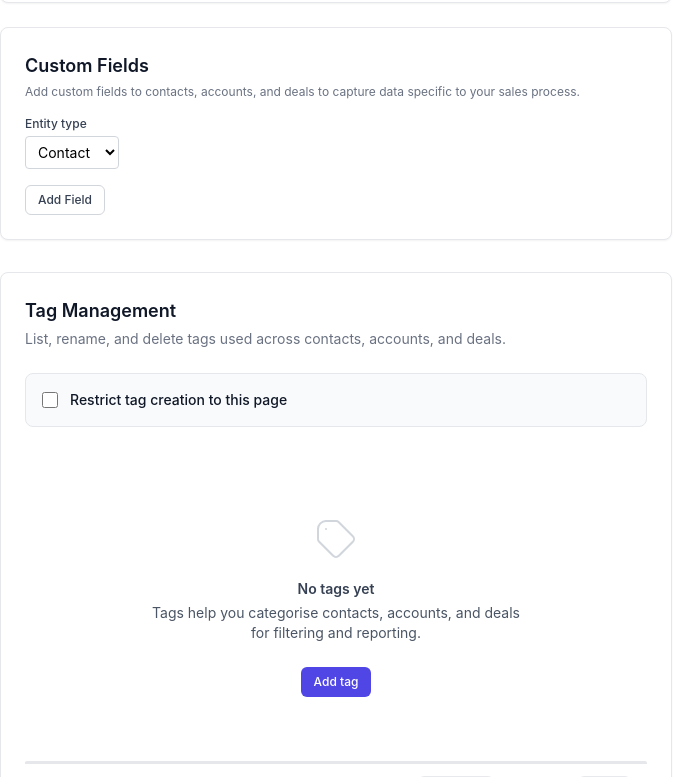
Test case: PipelinesAndFieldsSettings › shows tags restrict-creation success message after toggle
(page scrolled)
Click the switch with test id "tags-restrict-toggle" at (50, 400), box [42,392,58,408]
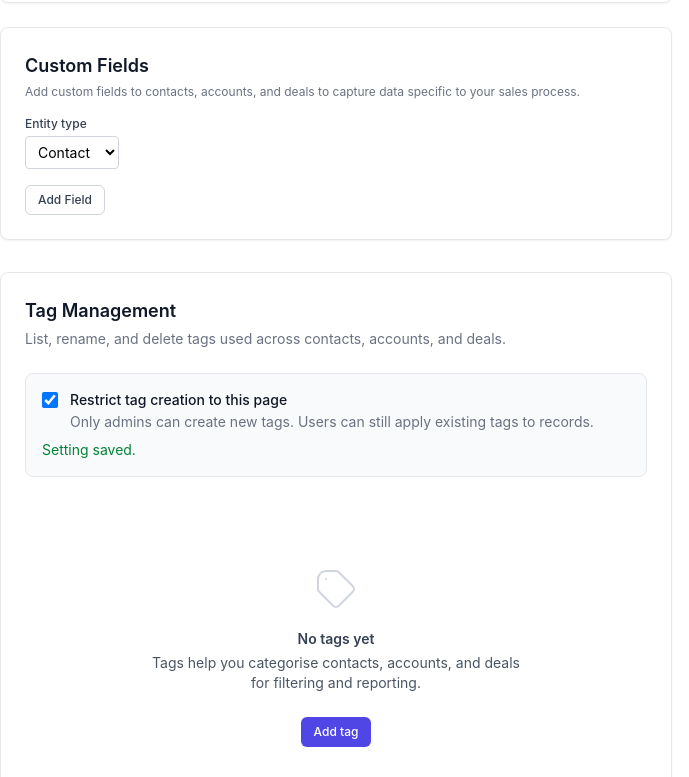
Now the message "Setting saved." is shown, box [42,441,136,458]
